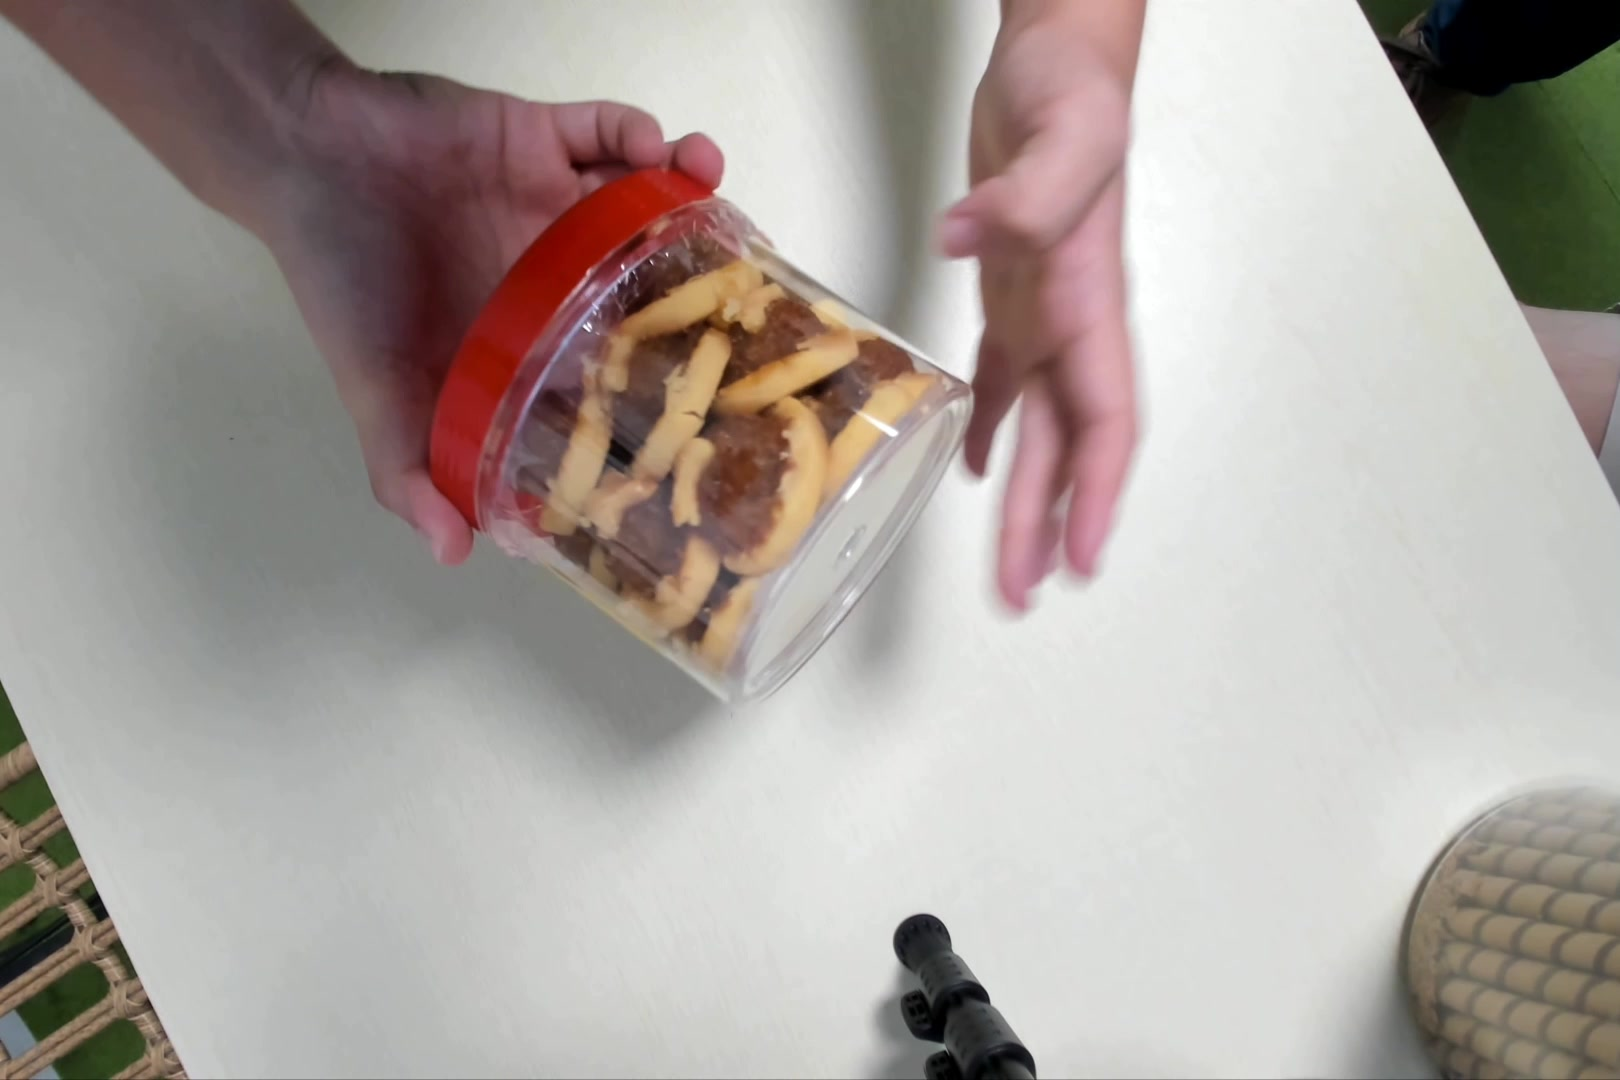BiscuitsCrackersCookies_400-499g_Halal_NonHealthy: (419, 162, 973, 714)
